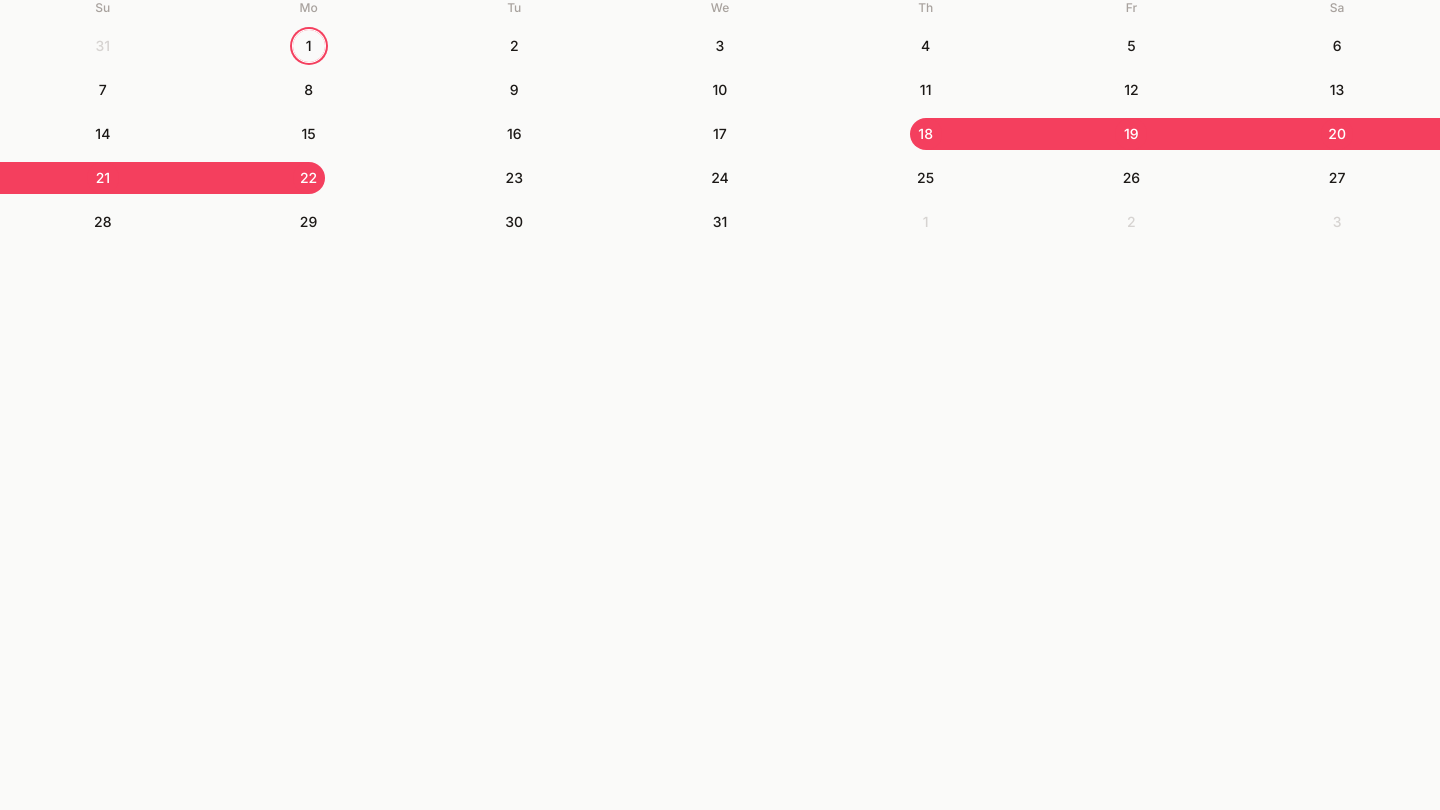
CalendarGrid › shows period detail data in the modal
Click the cell "18" at [926, 134], box x1=823 y1=112 x2=1028 y2=156
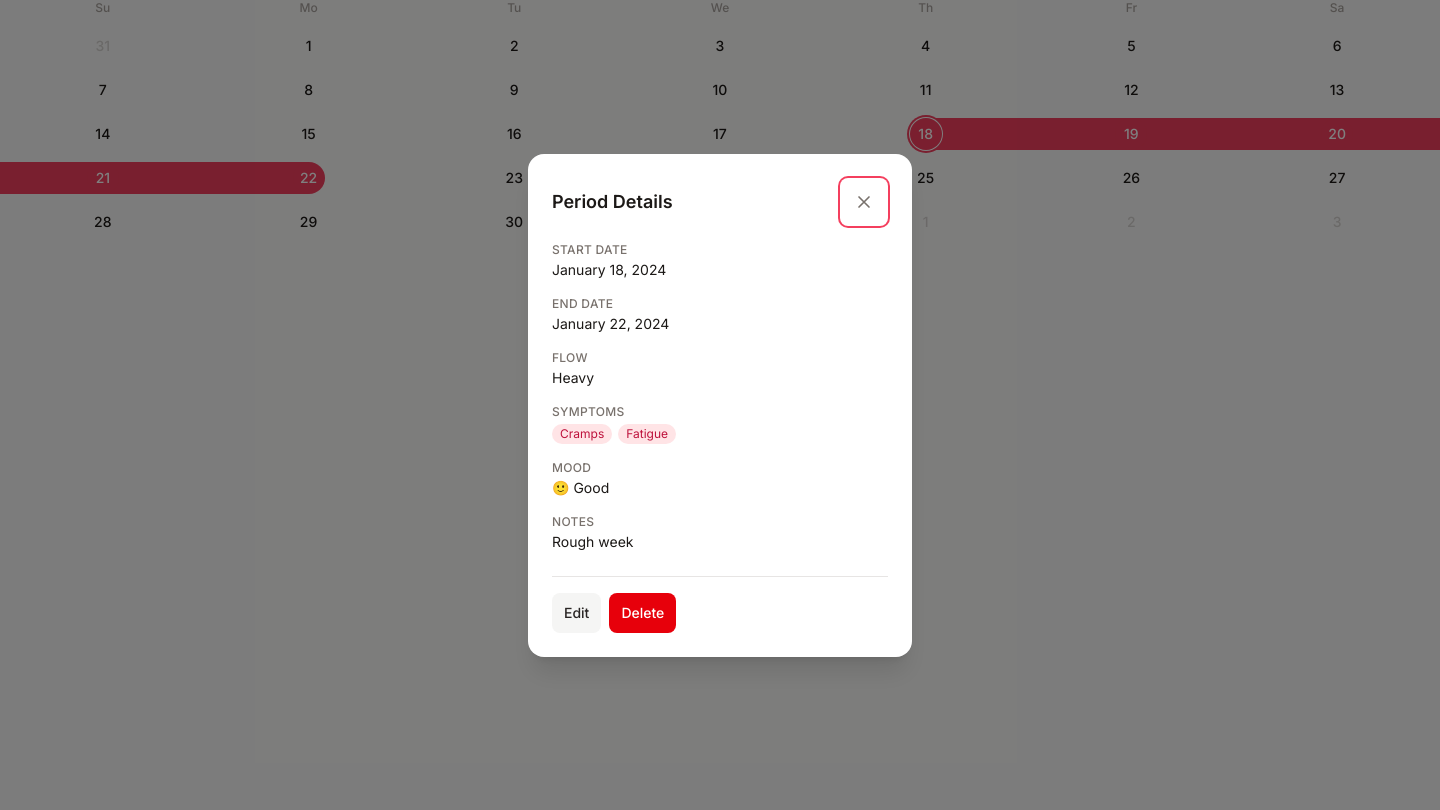
Expected: the text "January 18, 2024" is shown, x1=552 y1=260 x2=666 y2=278
Expected: the text "January 22, 2024" is shown, x1=552 y1=314 x2=669 y2=332
Expected: the text "Heavy" is shown, x1=552 y1=368 x2=594 y2=386
